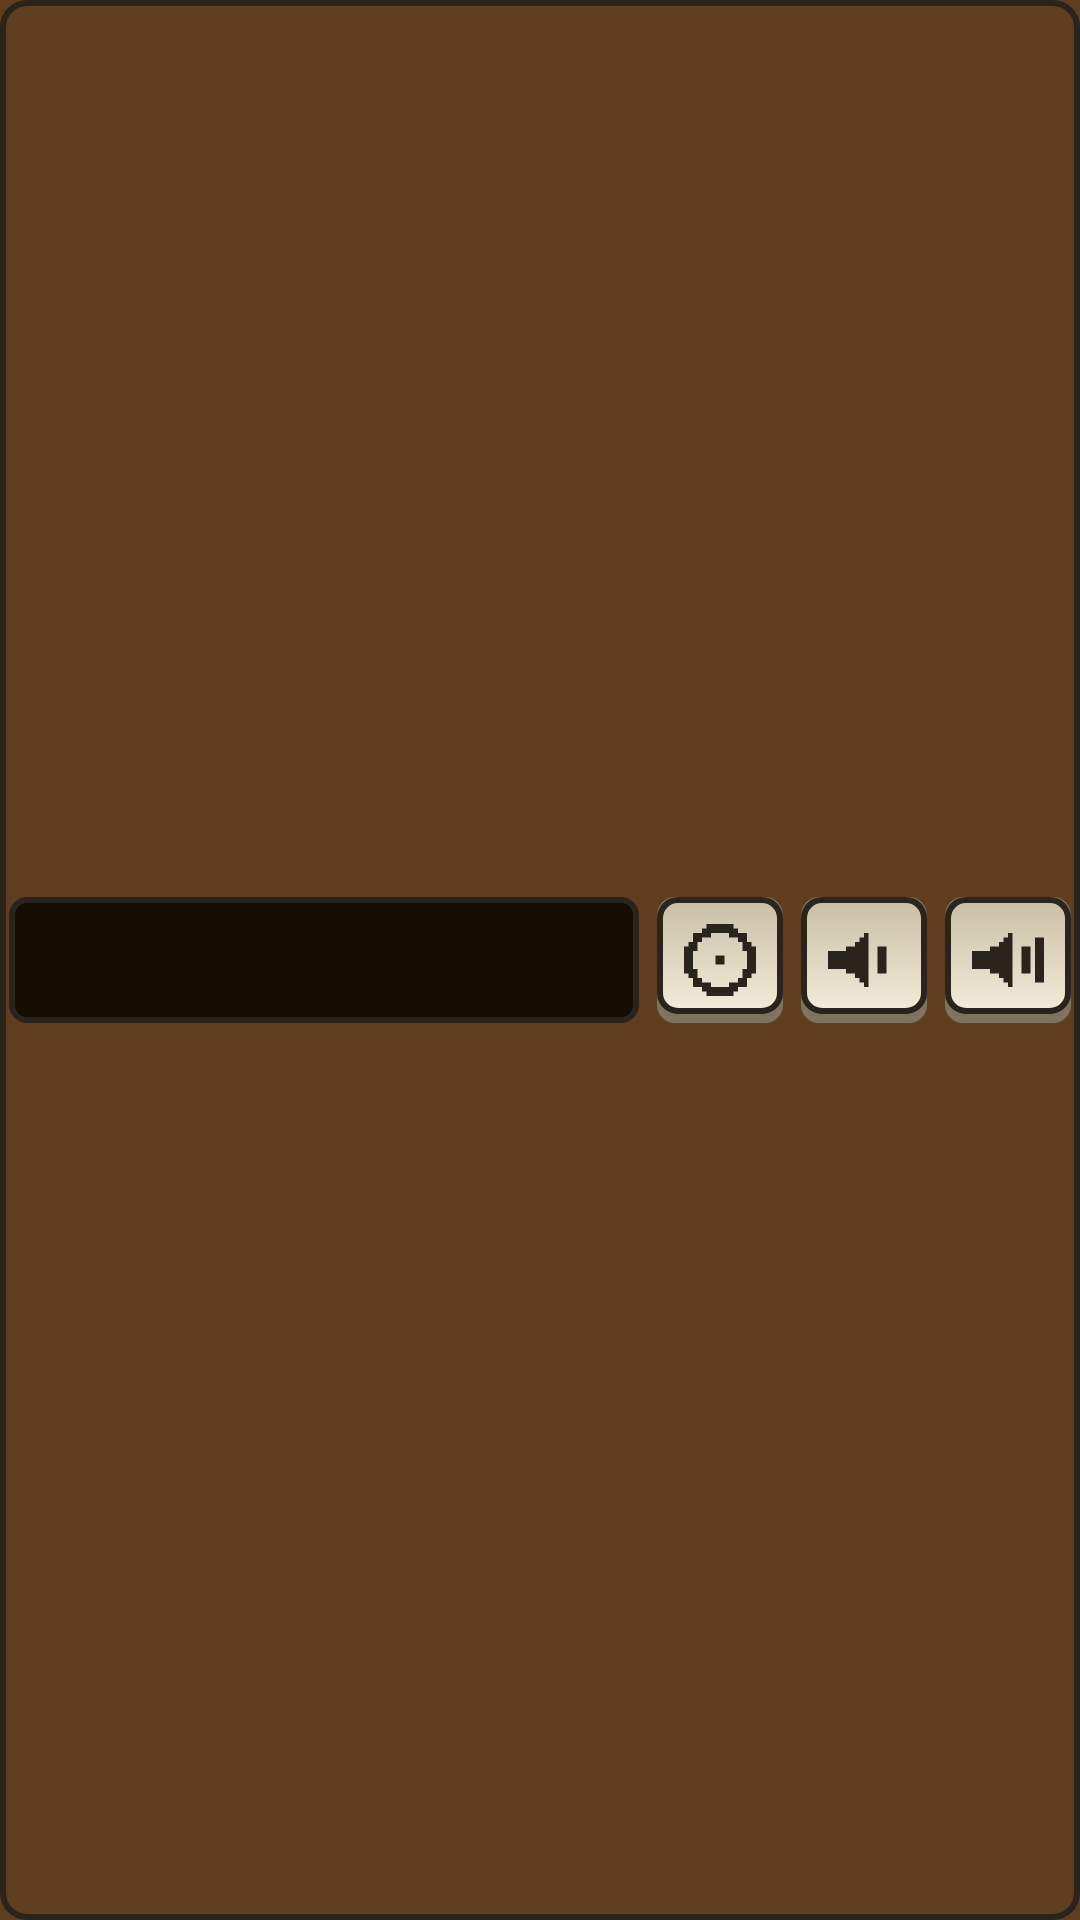

Icon bounding boxes for this 1080x1920 phone screenshot, format (x1, y1, x2, y2):
Volume down: (801, 897, 927, 1023)
Volume up: (945, 897, 1071, 1023)
